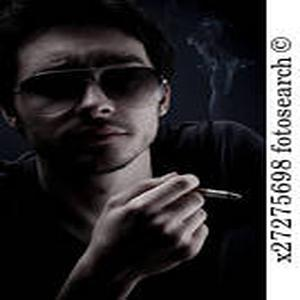cigarette: (190, 185, 246, 199)
